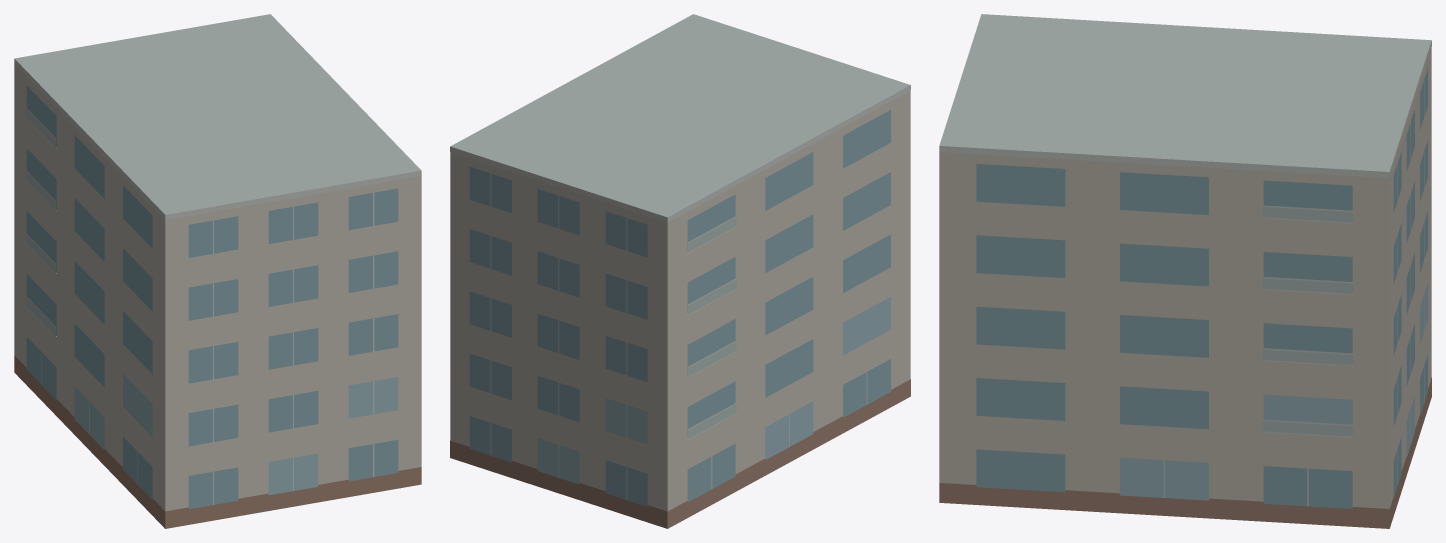
File: survey-upis-32520363.glb
3 renders of one model, left to right at view 1: azimuth 30°, elevation 25°; view 2: azimuth 150°, elevation 25°; view 3: azimuth 270°, elevation 25°, orthographic. The views are drawn at different scales.
Visible parts, largest first — view 1: survey-upis-32520363.tmp; view 2: survey-upis-32520363.tmp; view 3: survey-upis-32520363.tmp.
Part boxes in pixels (x1,y1,x2,y2): survey-upis-32520363.tmp: (14,14,421,528); survey-upis-32520363.tmp: (450,14,910,528); survey-upis-32520363.tmp: (939,14,1431,528).
Bounding box in the file's own units: 13.35 × 14.05 × 17.58.
